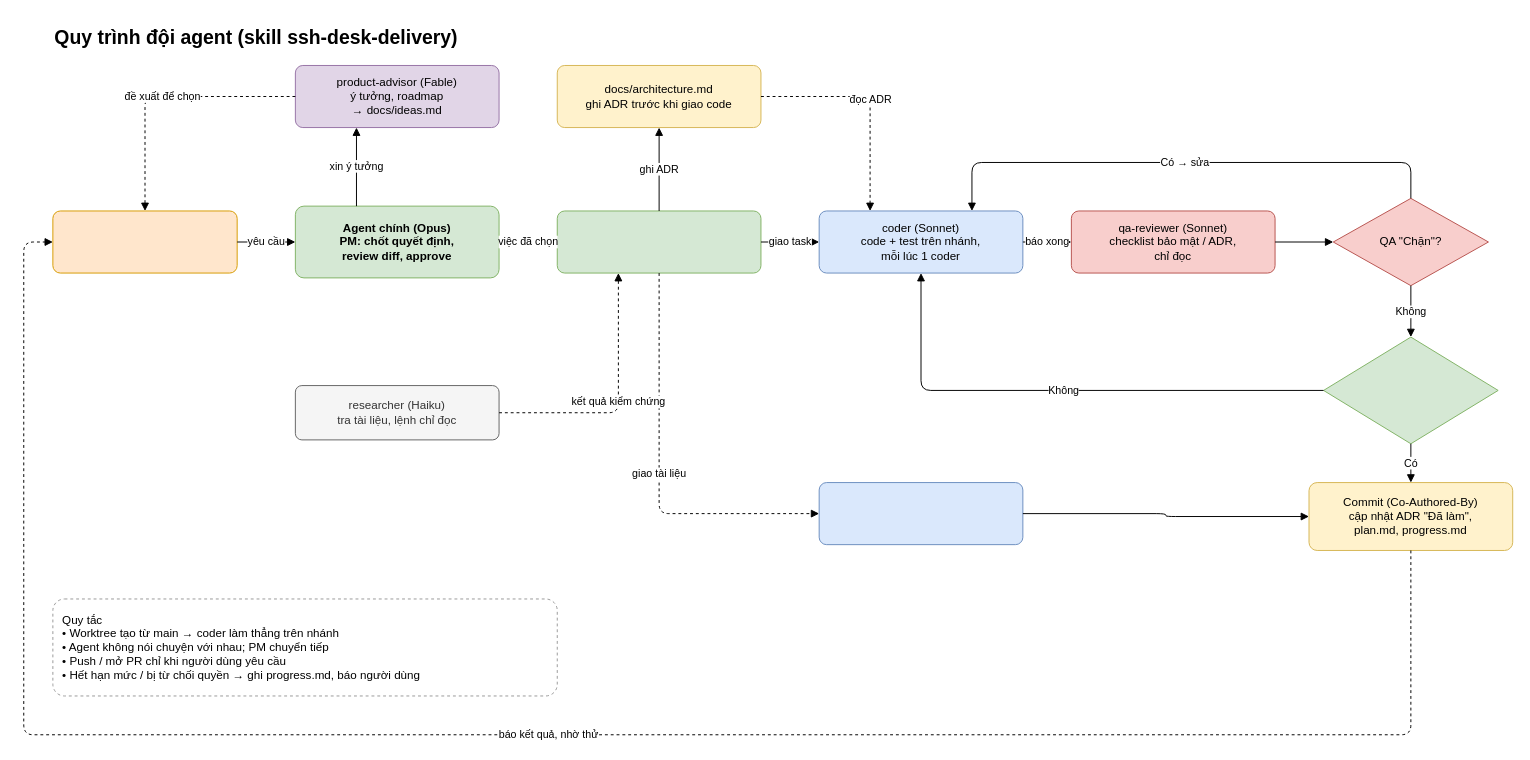
The diagram is 1530 pixels wide and 760 high, and some of its shapes have lost their labels. The shapes that lost their labels are listed below. From the top down, each one's centre as x and y in pixels, then its label:
the point at 144,241: Người dùng yêu cầu · chọn ý tưởng · thử app
the point at 658,241: pm (Opus) điều phối bước 0–4
the point at 1410,390: make check xanh + PM duyệt diff?
the point at 920,513: doc-writer (Sonnet) chỉ file .md, chạy song song coder
